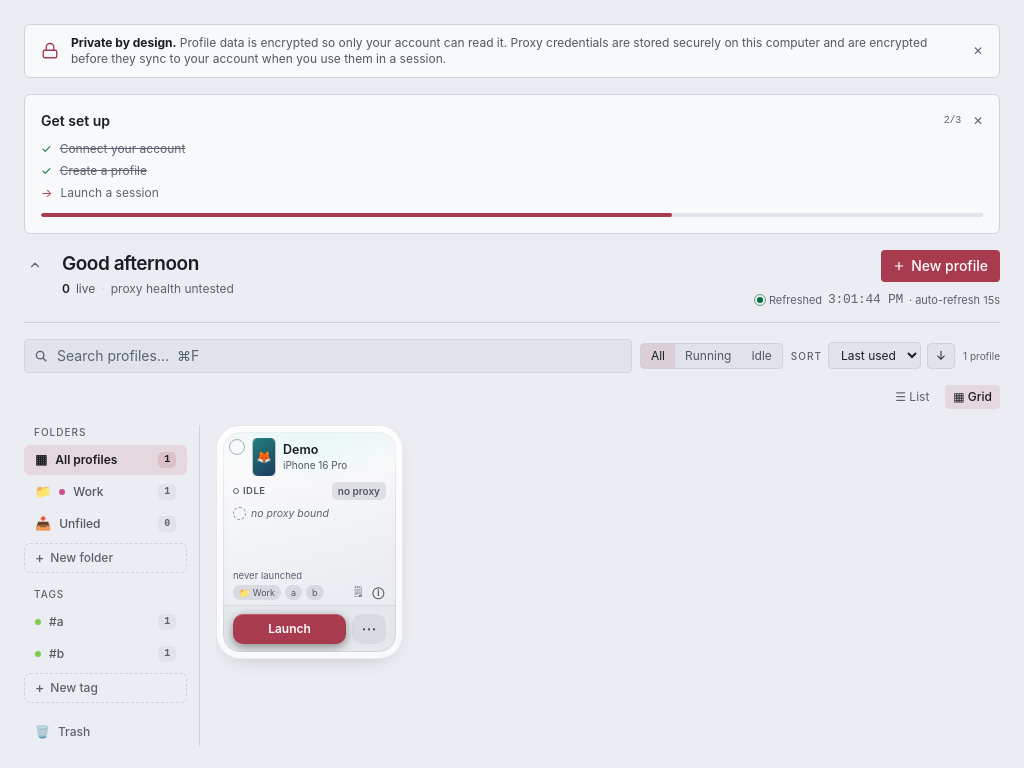
Scenario: ProfilesView profile-lifecycle actions › Storage + Trim › surfaces the per-profile size on the grid card
Click the button named "Details for Demo" at (378, 592), box [370,584,386,600]
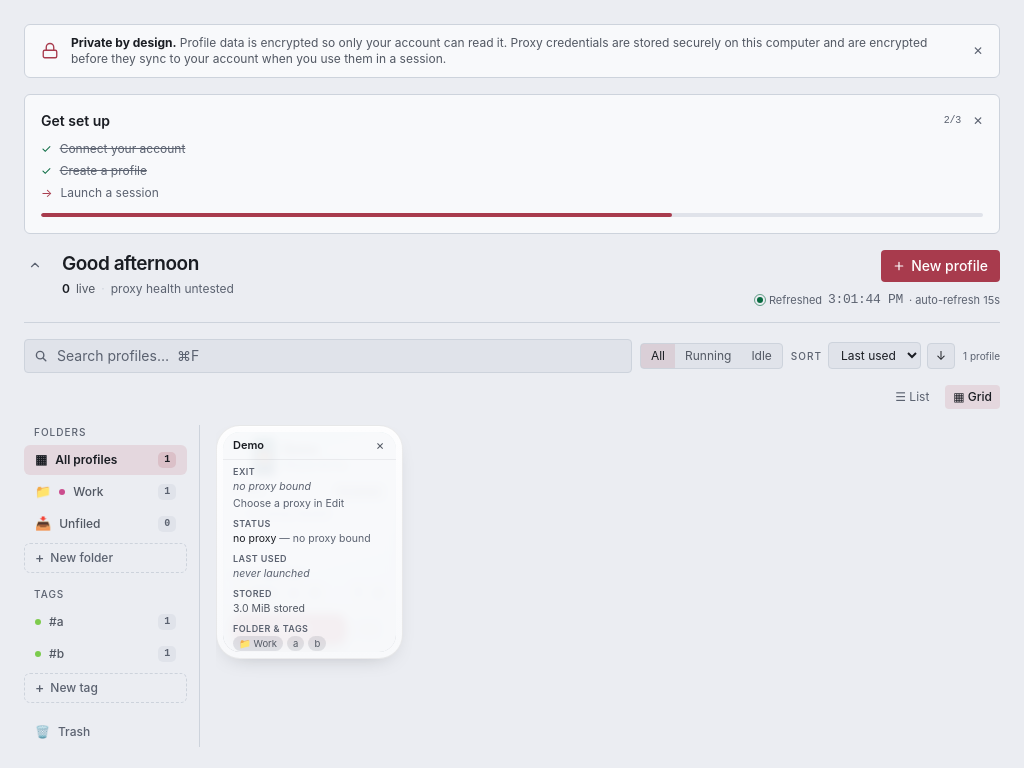
Now the dialog titled "Stored profile size" is shown, box [223,432,396,652]
Now the text titled "Stored profile size" reads "3.0 MiB stored", box [233,602,305,614]
